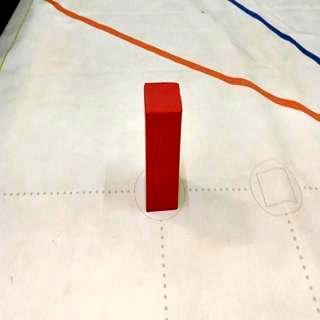redbox: (142, 80, 183, 212)
